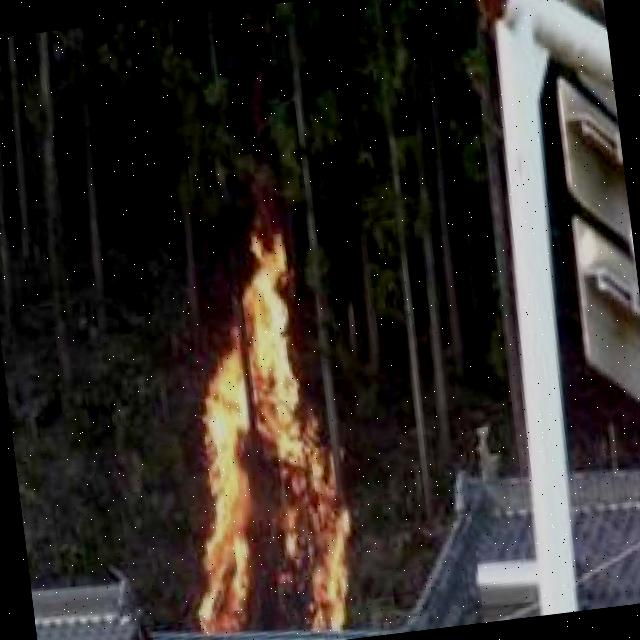fire: (146, 200, 389, 640)
